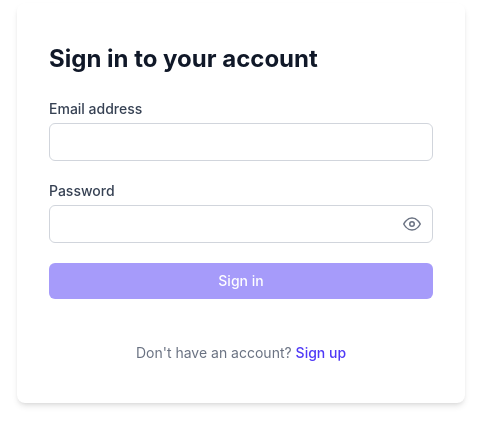
Scenario: LoginForm › AC-21: password show/hide toggle is present and functional
The width and height of the screenshot is (483, 424).
Click the button named "show password".
click(418, 224)  # box [403,205,433,243]
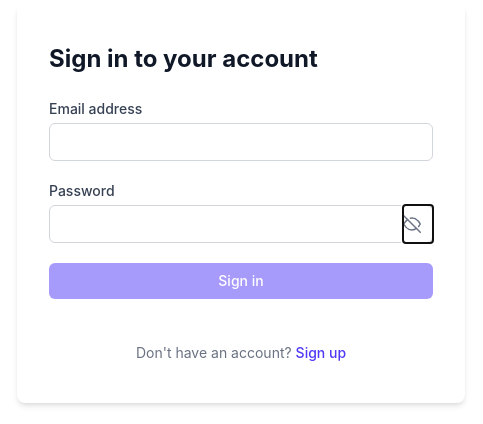
Expected: the button named "hide password" is shown, [403,205,433,243]
